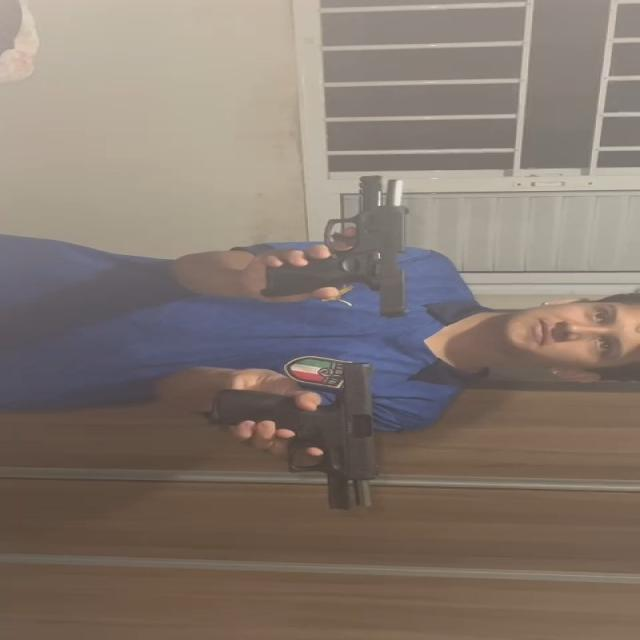gun: (210, 358, 377, 512), (255, 172, 413, 316)
